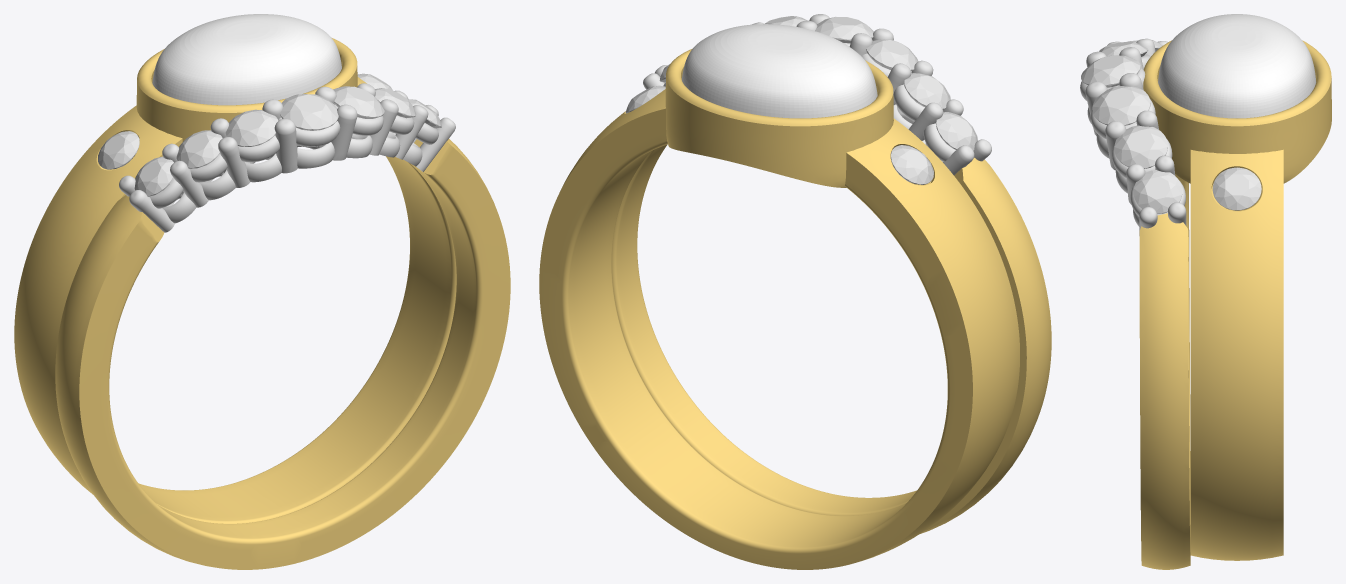
The model's file is NancyPT.glb.
3 renders of one model, left to right at view 1: azimuth 30°, elevation 25°; view 2: azimuth 150°, elevation 25°; view 3: azimuth 270°, elevation 25°, orthographic. The views are drawn at different scales.
Parts seen in each view (by area): view 1: Nancy YG for pt head version, Nancy PT for 3d model, Nancy jade for 3d model, Nancy dia for 3d model.003, Nancy dia for 3d model.004, Nancy dia for 3d model.005, Nancy dia for 3d model.007, Nancy dia for 3d model.006, Nancy dia for 3d model.002; view 2: Nancy YG for pt head version, Nancy jade for 3d model, Nancy PT for 3d model, Nancy dia for 3d model.007, Nancy dia for 3d model.005, Nancy dia for 3d model.006, Nancy dia for 3d model.004, Nancy dia for 3d model.003; view 3: Nancy YG for pt head version, Nancy jade for 3d model, Nancy PT for 3d model, Nancy dia for 3d model.001, Nancy dia for 3d model.002, Nancy dia for 3d model.008, Nancy dia for 3d model, Nancy dia for 3d model.003, Nancy dia for 3d model.004.
Part boxes in pixels (box(x1,y1,x2,y2)): Nancy YG for pt head version: box(14, 38, 510, 569); Nancy PT for 3d model: box(119, 83, 455, 232); Nancy jade for 3d model: box(152, 14, 341, 105); Nancy dia for 3d model.003: box(280, 94, 338, 130); Nancy dia for 3d model.004: box(225, 109, 278, 146); Nancy dia for 3d model.005: box(176, 130, 222, 168); Nancy dia for 3d model.007: box(98, 131, 139, 169); Nancy dia for 3d model.006: box(134, 156, 173, 196); Nancy dia for 3d model.002: box(333, 86, 384, 118); Nancy YG for pt head version: box(539, 48, 1051, 569); Nancy jade for 3d model: box(682, 24, 877, 118); Nancy PT for 3d model: box(643, 14, 991, 175); Nancy dia for 3d model.007: box(890, 145, 933, 184); Nancy dia for 3d model.005: box(904, 73, 950, 109); Nancy dia for 3d model.006: box(936, 112, 977, 150); Nancy dia for 3d model.004: box(866, 39, 918, 70); Nancy dia for 3d model.003: box(815, 16, 873, 43); Nancy YG for pt head version: box(1139, 40, 1331, 569); Nancy jade for 3d model: box(1158, 14, 1316, 118); Nancy PT for 3d model: box(1080, 38, 1186, 235); Nancy dia for 3d model.001: box(1114, 125, 1167, 168); Nancy dia for 3d model.002: box(1092, 86, 1150, 125); Nancy dia for 3d model.008: box(1212, 167, 1261, 210); Nancy dia for 3d model: box(1133, 170, 1182, 213); Nancy dia for 3d model.003: box(1081, 55, 1140, 87); Nancy dia for 3d model.004: box(1099, 41, 1148, 56).
Bounding box in the file's own units: 21.1 × 23.03 × 10.31.
